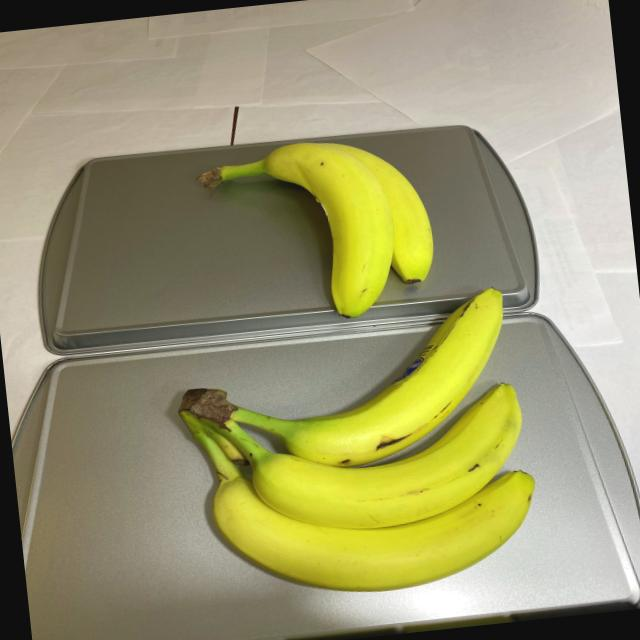banana: (150, 282, 548, 619), (194, 130, 438, 333)
